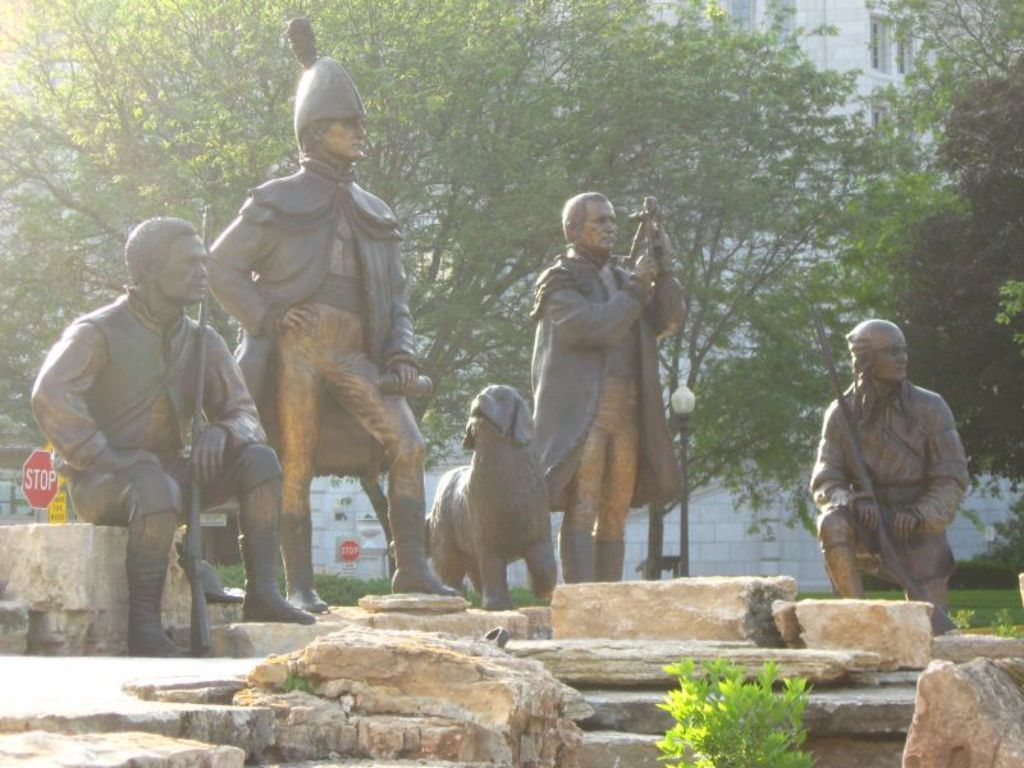Animal: (383, 383, 558, 608)
